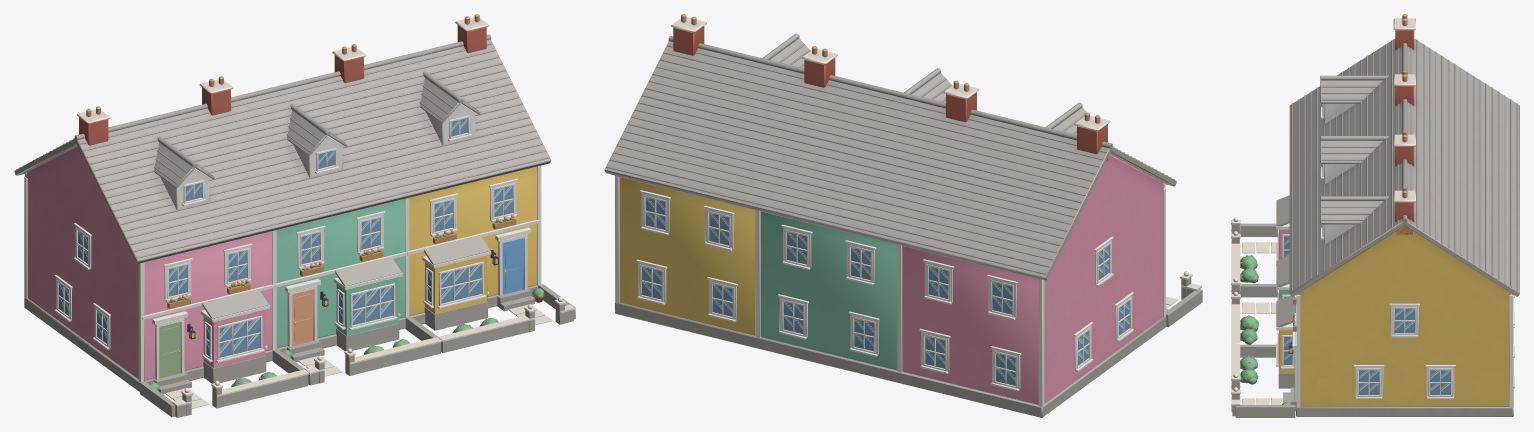
Rendered from row-houses.glb.
3 views of the same model, side by side, from view 1: azimuth 30°, elevation 25°; view 2: azimuth 150°, elevation 25°; view 3: azimuth 270°, elevation 25° (orthographic). The views are drawn at different scales.
Parts seen in each view (by area): view 1: row-houses_body, row-houses_details, row-houses, row-houses_glints, row-houses_frame, row-houses_plants; view 2: row-houses_body, row-houses_details, row-houses_glints; view 3: row-houses_body, row-houses_details, row-houses_plants, row-houses_glints.
Boxes of the visible parts, x1=… form: row-houses_body: x1=14, y1=14, x2=551, y2=391; row-houses_details: x1=24, y1=115, x2=575, y2=417; row-houses: x1=159, y1=238, x2=523, y2=378; row-houses_glints: x1=59, y1=118, x2=512, y2=354; row-houses_frame: x1=155, y1=234, x2=527, y2=379; row-houses_plants: x1=149, y1=288, x2=544, y2=390; row-houses_body: x1=604, y1=14, x2=1176, y2=417; row-houses_details: x1=615, y1=175, x2=1202, y2=406; row-houses_glints: x1=642, y1=197, x2=1129, y2=381; row-houses_body: x1=1289, y1=14, x2=1519, y2=416; row-houses_details: x1=1231, y1=103, x2=1514, y2=417; row-houses_plants: x1=1240, y1=255, x2=1291, y2=404; row-houses_glints: x1=1284, y1=239, x2=1450, y2=391.
Size of the model in its own units: 18.7 by 10.35 by 12.13.
Materials: 23 (1 with a texture image).
